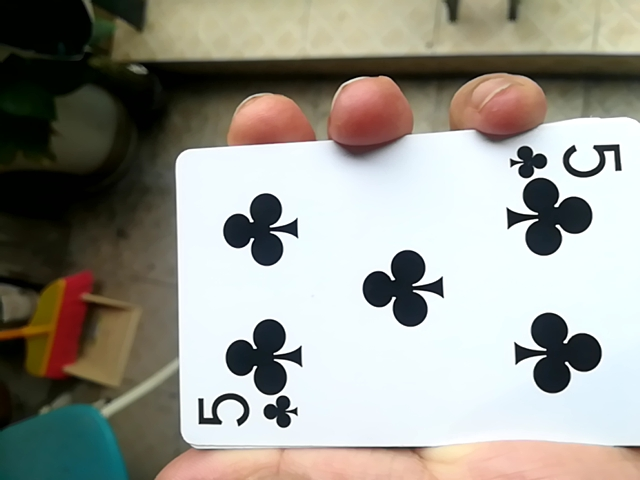mh 5: (163, 125, 631, 448)
